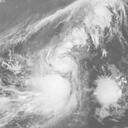cyclone: (21, 51, 82, 115)
